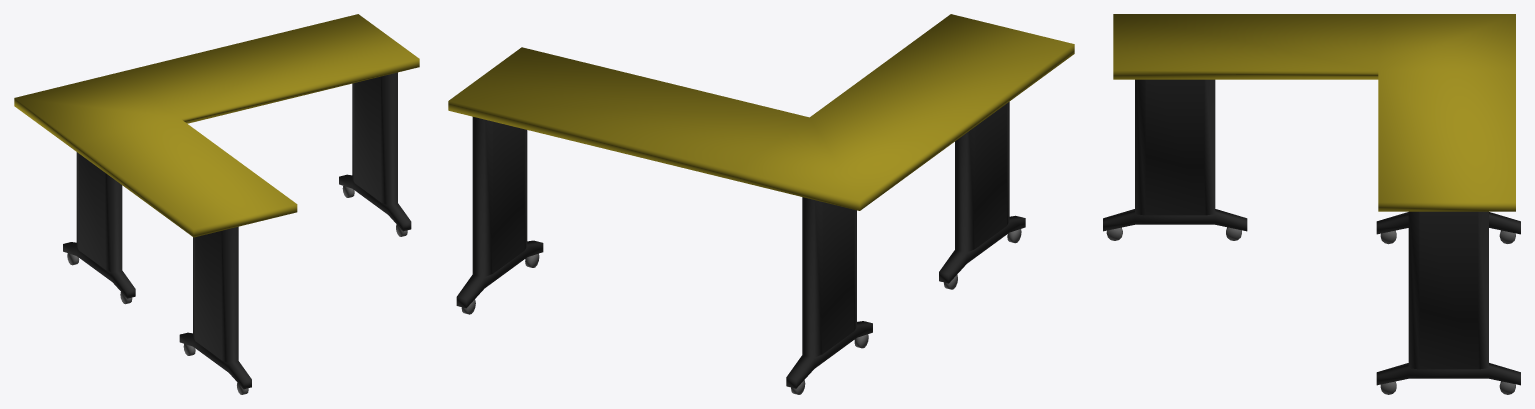
File: Assets2Arthur.fbx_mesaEscritorioAbelha.fbx
The picture shows the model from 3 angles, left to right: view 1: azimuth 30°, elevation 25°; view 2: azimuth 150°, elevation 25°; view 3: azimuth 270°, elevation 25°; orthographic projection. The views are drawn at different scales.
Visible parts, largest first — view 1: mesaEscritorioAbelha; view 2: mesaEscritorioAbelha; view 3: mesaEscritorioAbelha.
Part boxes in pixels (box(x1,y1,x2,y2)): mesaEscritorioAbelha: box(14, 14, 419, 394); mesaEscritorioAbelha: box(448, 14, 1074, 394); mesaEscritorioAbelha: box(1103, 14, 1520, 394).
Bounding box in the file's own units: 252 × 124 × 236.
